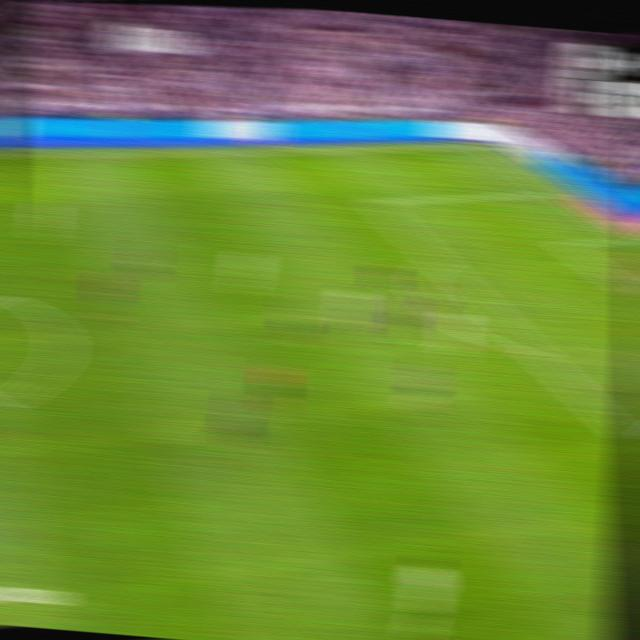bigarea_top_inner: (364, 193, 389, 212)
bigarea_top_outter: (540, 182, 566, 199)
bottom_arc_area_intersection: (522, 342, 549, 363)
corner: (470, 140, 496, 152)
smallarea_top_inner: (555, 238, 576, 250)
top_arc_area_intersection: (425, 250, 450, 269)
